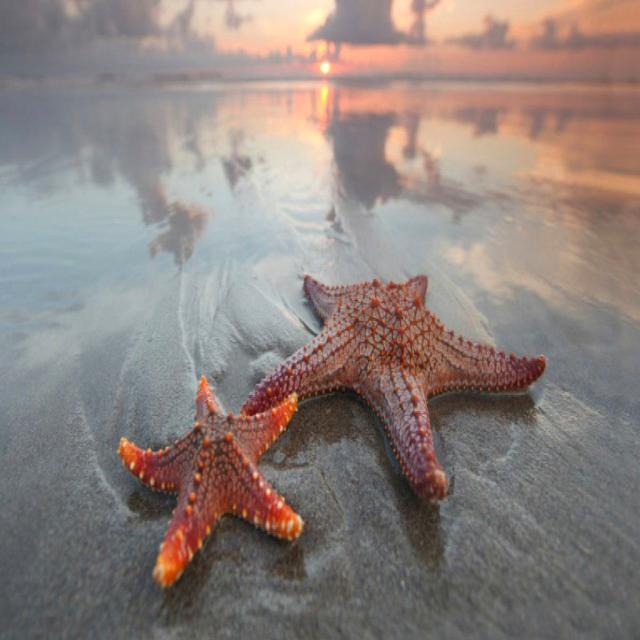starfish: (241, 275, 546, 500), (119, 377, 304, 585)
